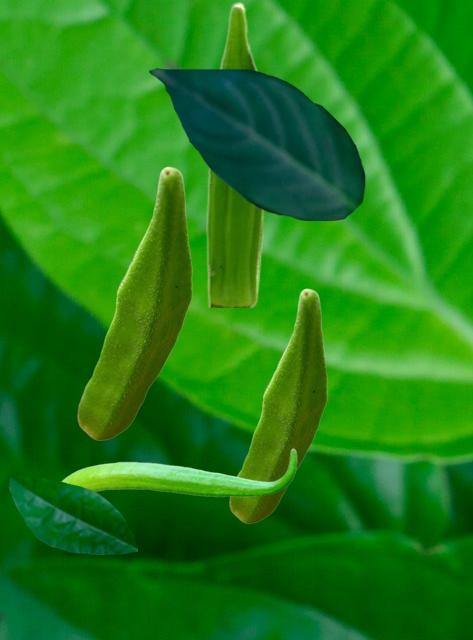okra: (77, 166, 191, 439), (229, 288, 326, 522), (206, 1, 266, 306), (61, 448, 296, 498)
